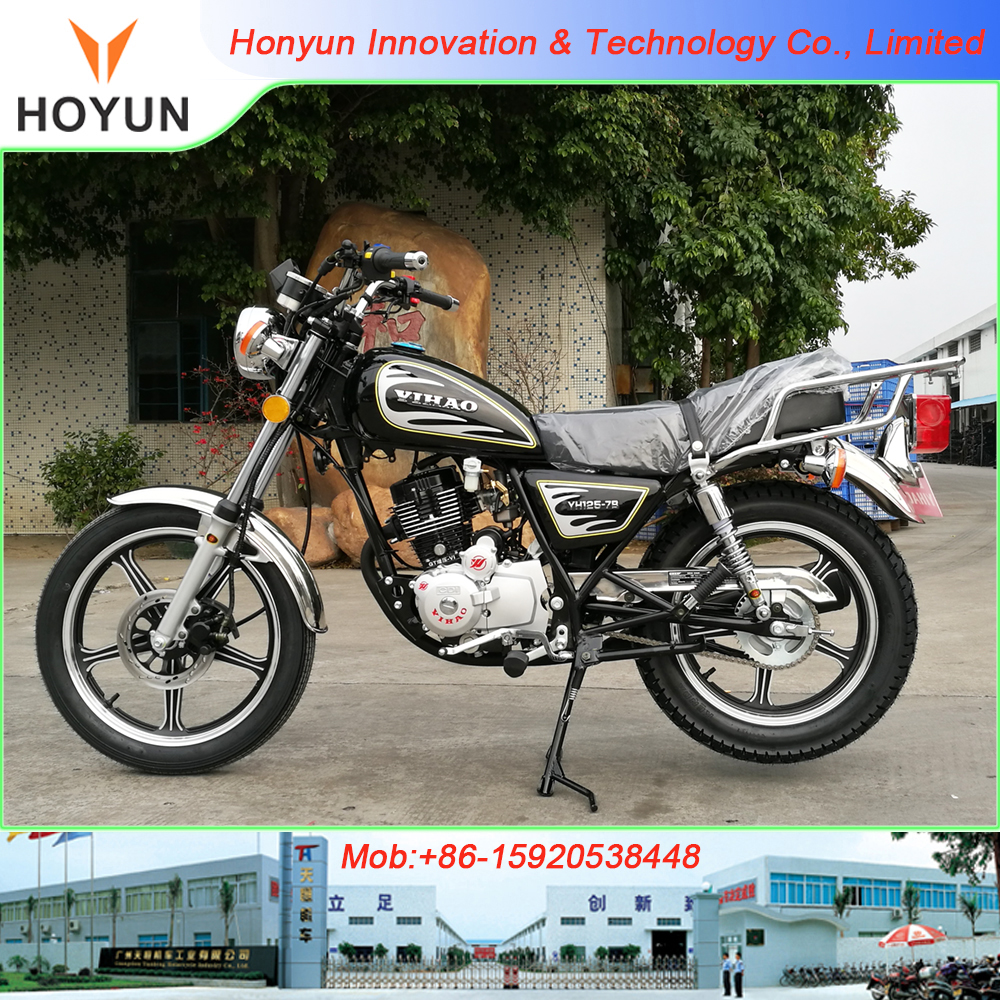motorbike: (26, 228, 973, 806)
